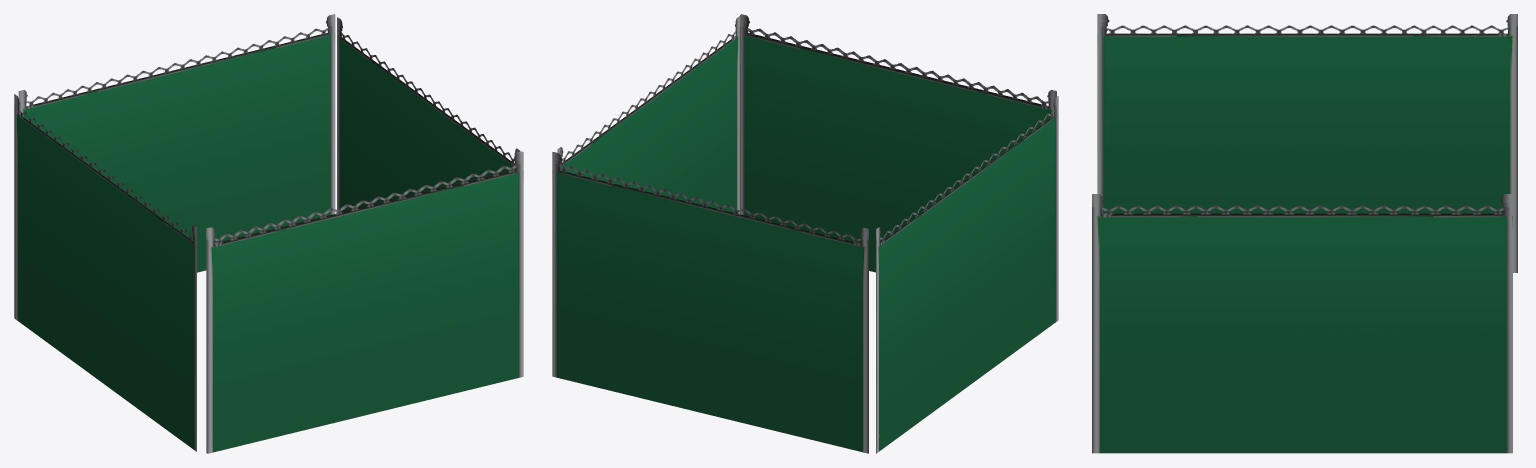
Rendered from constructionwall.fbx.
3 renders of one model, left to right at view 1: azimuth 30°, elevation 25°; view 2: azimuth 150°, elevation 25°; view 3: azimuth 270°, elevation 25°, orthographic. The views are drawn at different scales.
Visible parts, largest first — view 1: polySurface11; view 2: polySurface11; view 3: polySurface11.
Part boxes in pixels (x1,y1,x2,y2): polySurface11: (14, 14, 523, 453); polySurface11: (552, 14, 1058, 453); polySurface11: (1092, 14, 1517, 453).
Size of the model in its own units: 3.05 by 2.04 by 3.1.
1 material, 1 textured.
